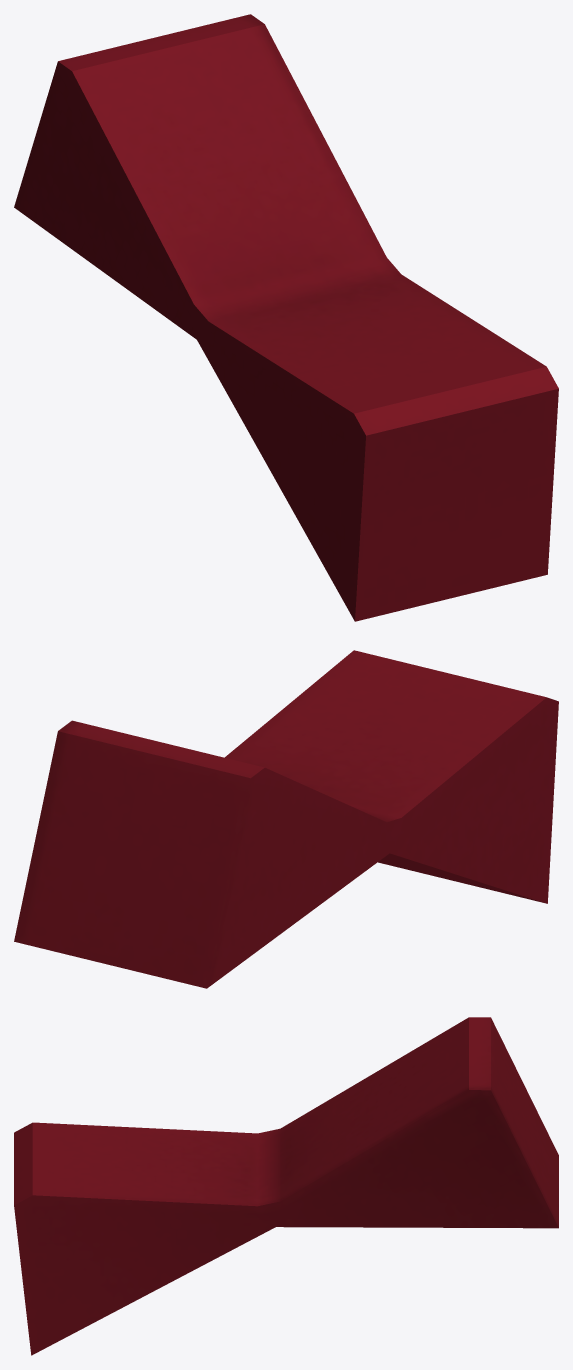
Rendered from Button 1.fbx.
3 renders of one model, top to bottom at view 1: azimuth 30°, elevation 25°; view 2: azimuth 150°, elevation 25°; view 3: azimuth 270°, elevation 25°, orthographic. The views are drawn at different scales.
Visible parts, largest first — view 1: Button_1; view 2: Button_1; view 3: Button_1.
Part boxes in pixels (box(x1,y1,x2,y2)): Button_1: box(14, 14, 558, 621); Button_1: box(14, 650, 558, 988); Button_1: box(14, 1017, 558, 1355).
Size of the model in its own units: 1.22 by 2.07 by 3.85.
